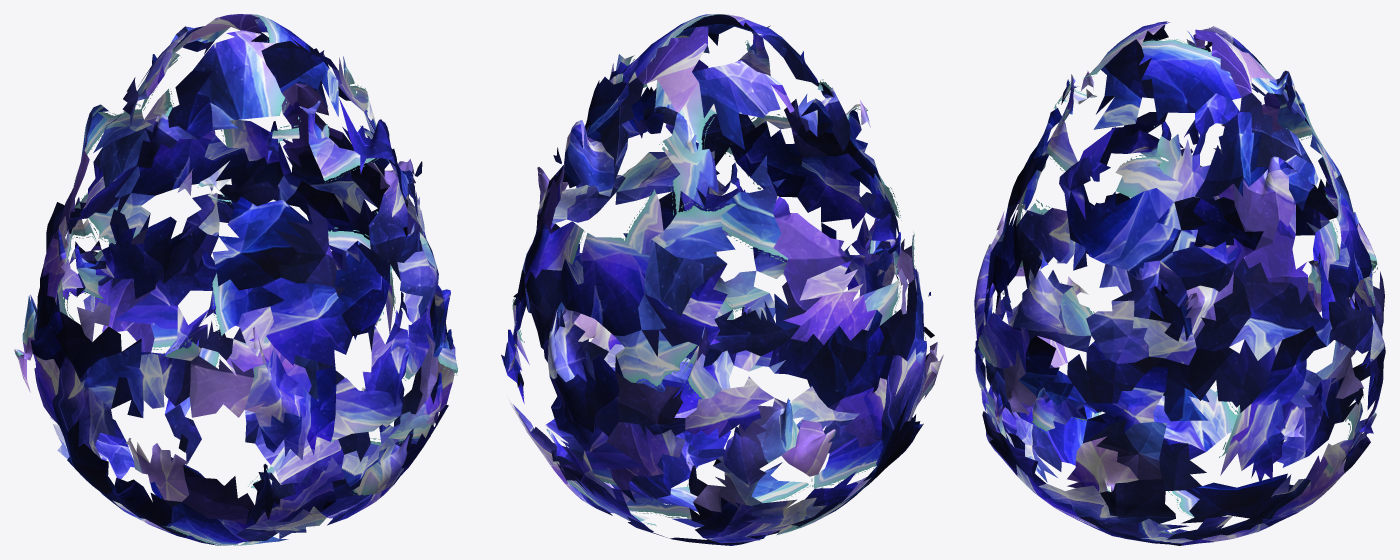
The model's file is black_ice_egg_7500tris.fbx.
3 views of the same model, side by side, from view 1: azimuth 30°, elevation 25°; view 2: azimuth 150°, elevation 25°; view 3: azimuth 270°, elevation 25° (orthographic).
Parts seen in each view (by area): view 1: black_ice_egg_decimated; view 2: black_ice_egg_decimated; view 3: black_ice_egg_decimated.
Part boxes in pixels (bbox=[...]): black_ice_egg_decimated: bbox=[14, 14, 457, 545]; black_ice_egg_decimated: bbox=[501, 14, 943, 545]; black_ice_egg_decimated: bbox=[974, 21, 1385, 545].
Size of the model in its own units: 1.44 by 1.91 by 1.41.
